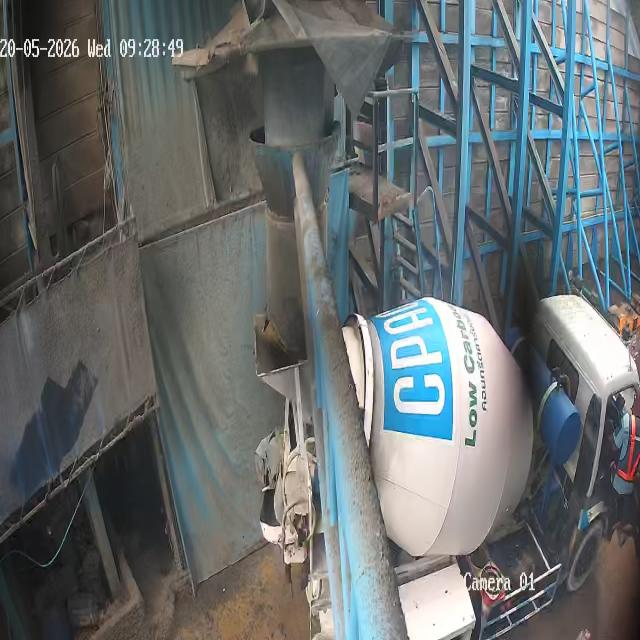cement_mixer_truck: (257, 295, 639, 639)
swing_chute: (249, 123, 341, 343)
